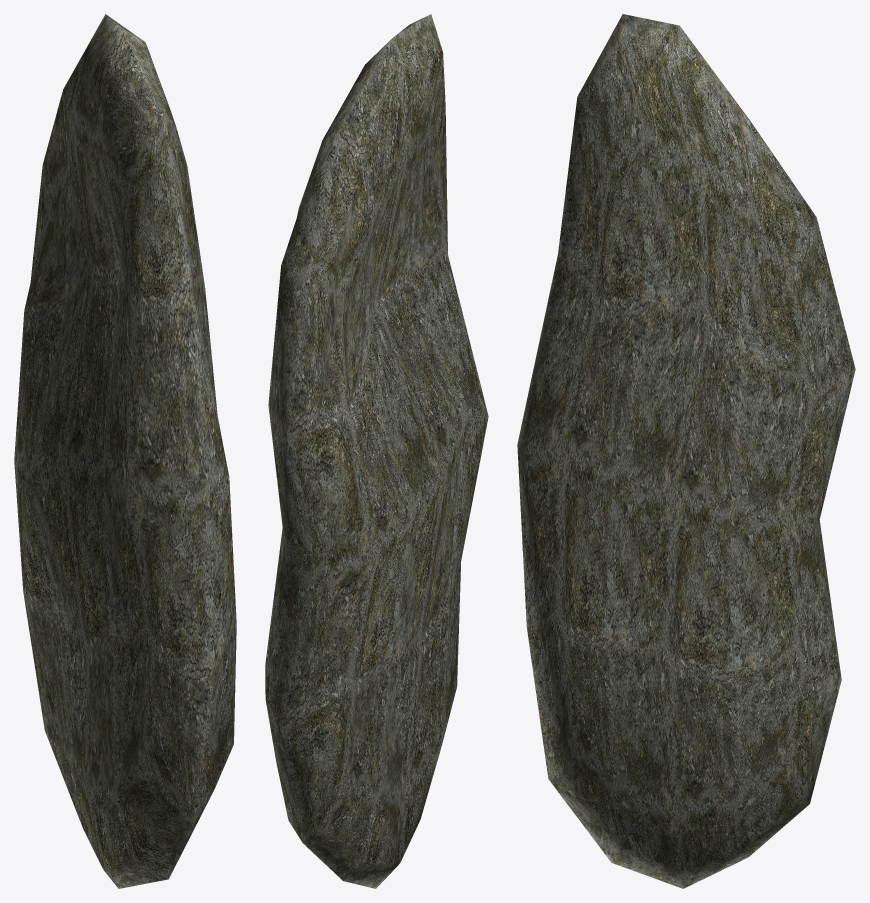
The model's file is rock_dant_a2_l0.fbx.
3 renders of one model, left to right at view 1: azimuth 30°, elevation 25°; view 2: azimuth 150°, elevation 25°; view 3: azimuth 270°, elevation 25°, orthographic. The views are drawn at different scales.
Visible parts, largest first — view 1: mesh_node; view 2: mesh_node; view 3: mesh_node.
Boxes of the visible parts, box(x1,y1,x2,y2) form: mesh_node: box(14, 14, 236, 888); mesh_node: box(265, 14, 488, 888); mesh_node: box(517, 14, 855, 888).
Size of the model in its own units: 0.8636 by 5.44 by 1.93.
Materials: 1 (1 with a texture image).
